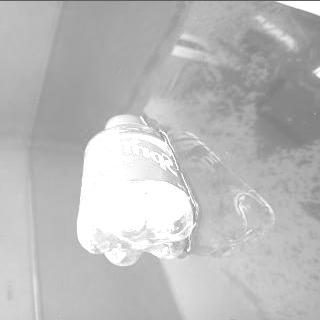bottle: (76, 112, 198, 266)
